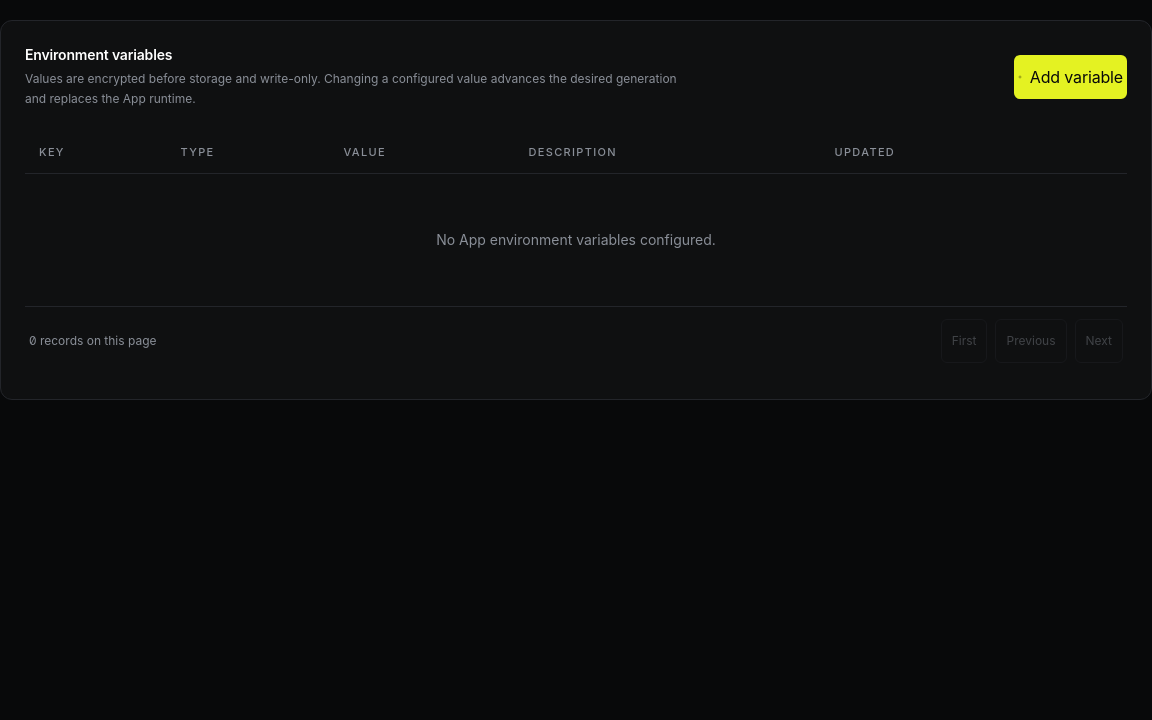
Test: AppEnvironmentVariablesPanel › submits a secret as write-only input and does not render the submitted value
Click the button "Add variable".
click(1070, 77)  # box [1014,55,1127,99]
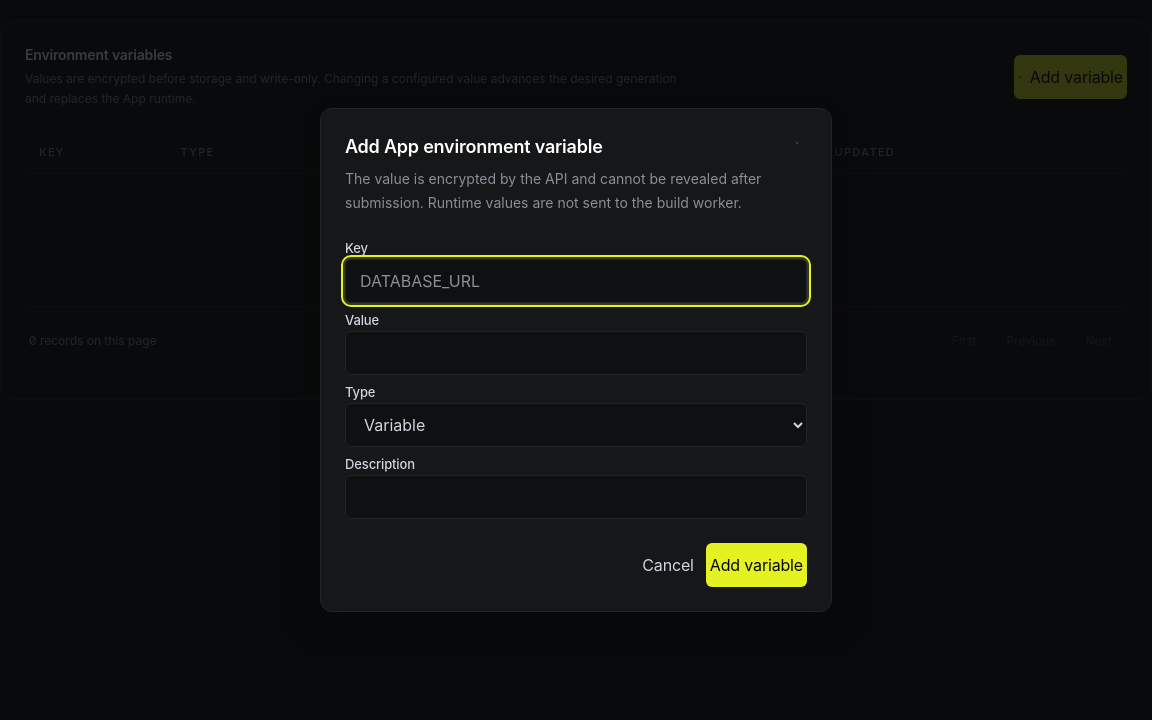
Type "PAYMENT_TOKEN" into the field labelled "Key".
click(576, 281); type("PAYMENT_TOKEN")  # box [345,259,807,303]
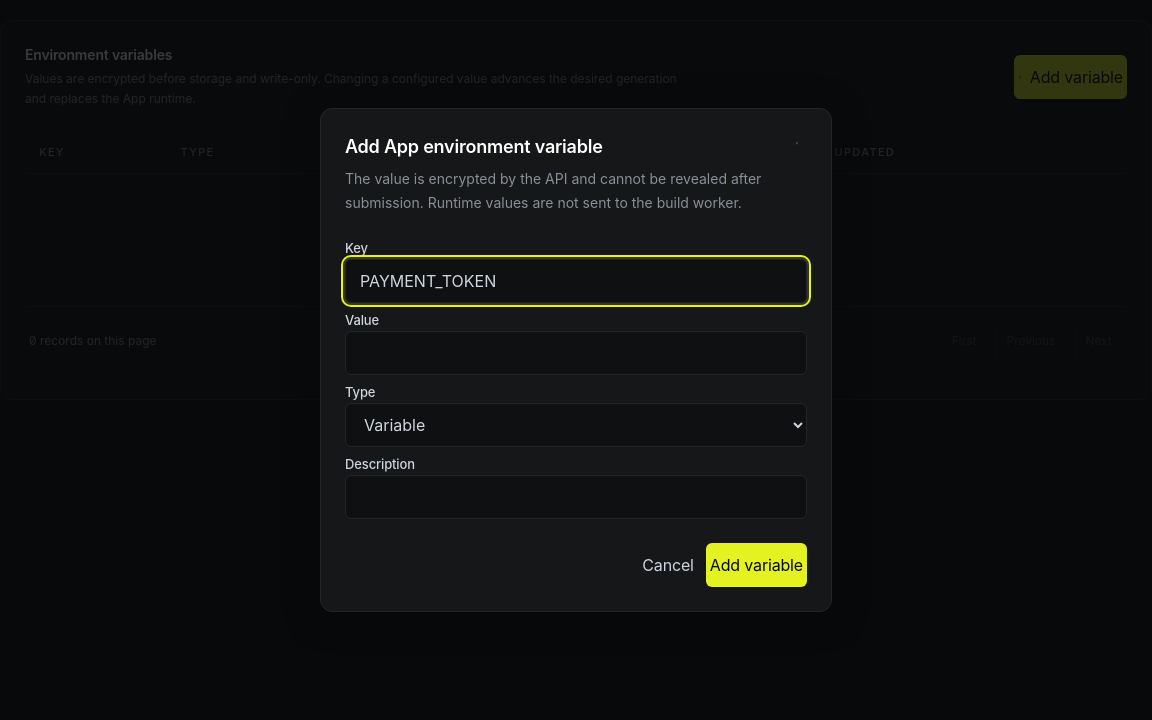
Type "fake-smoke-secret-value" into the password field labelled "Value".
click(576, 353); type("fake-smoke-secret-value")  # box [345,331,807,375]
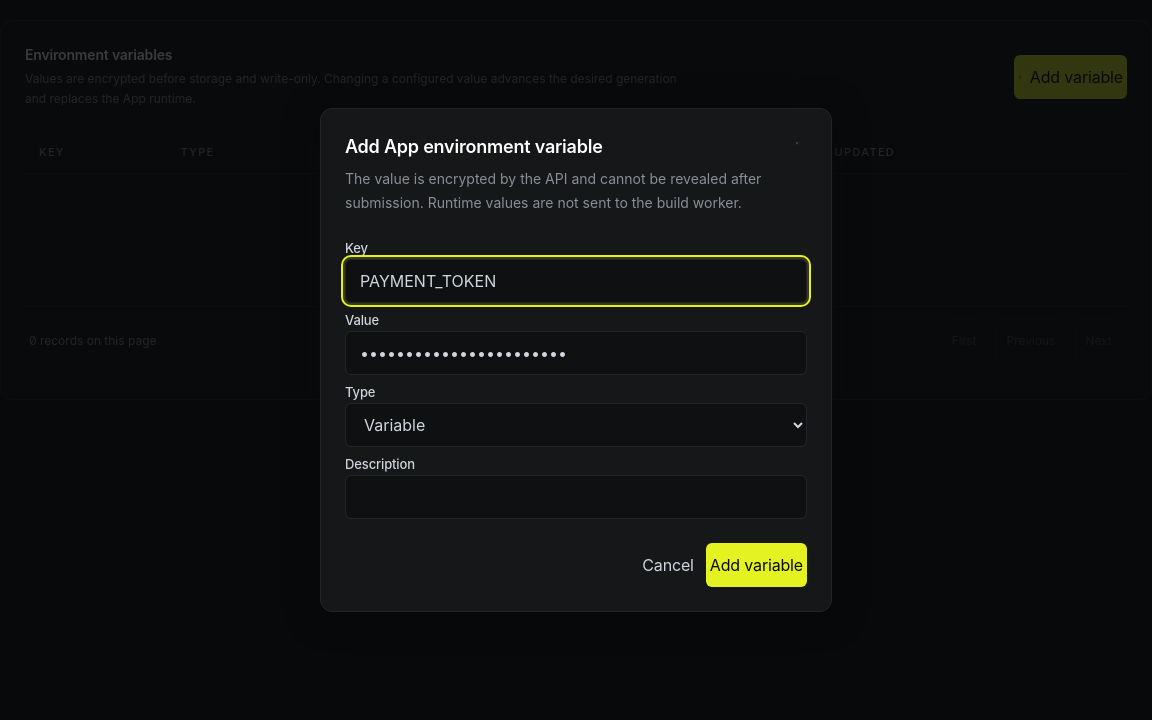
Select "Secret" in the dropdown labelled "Type" at coordinates (576, 425), box [345,403,807,447]
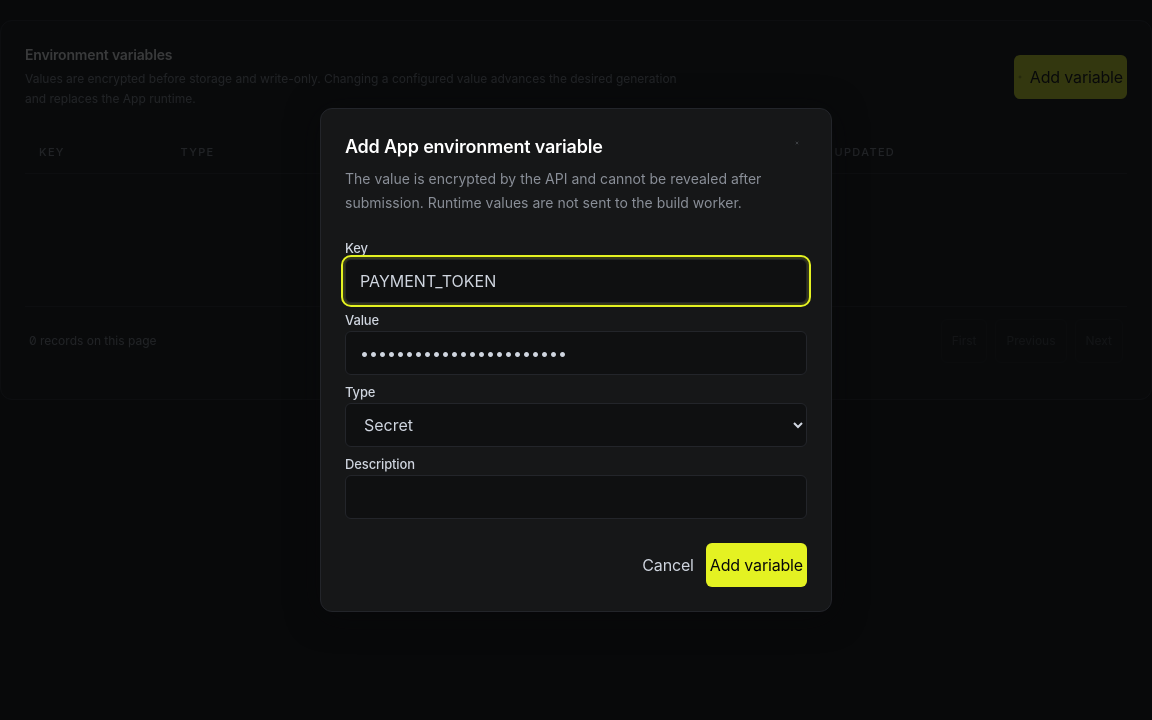
Click the button "Add variable".
click(756, 565)  # box [706,543,807,587]
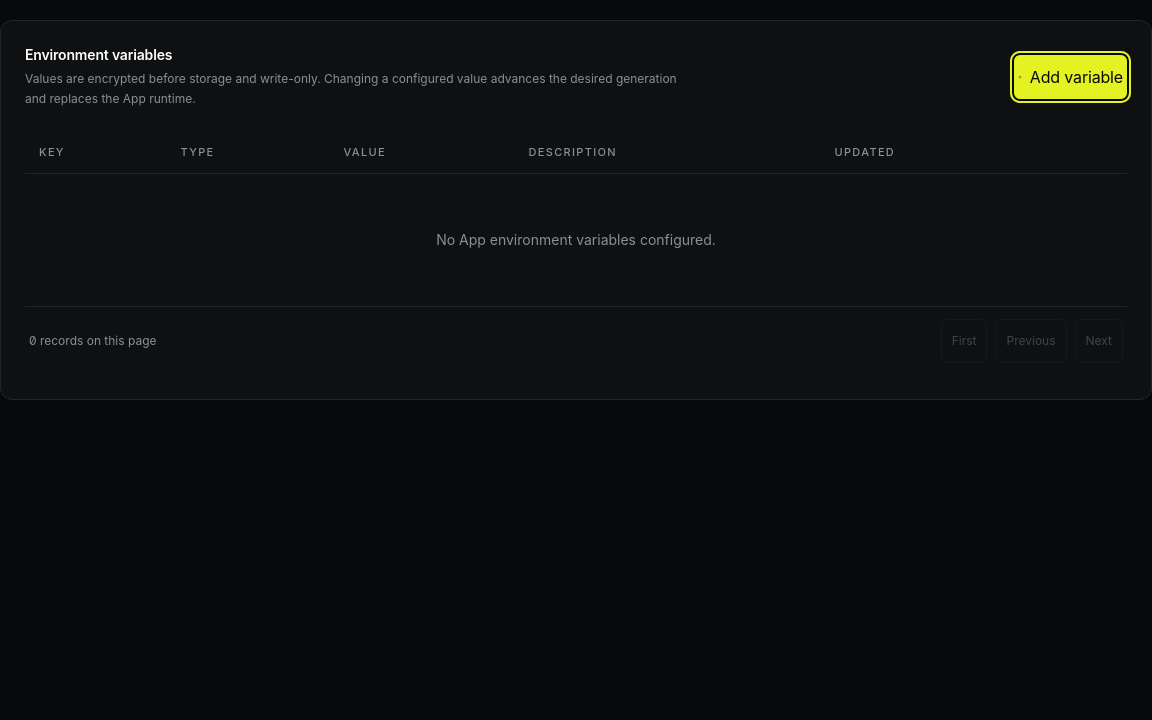
Expected: the dialog is gone
